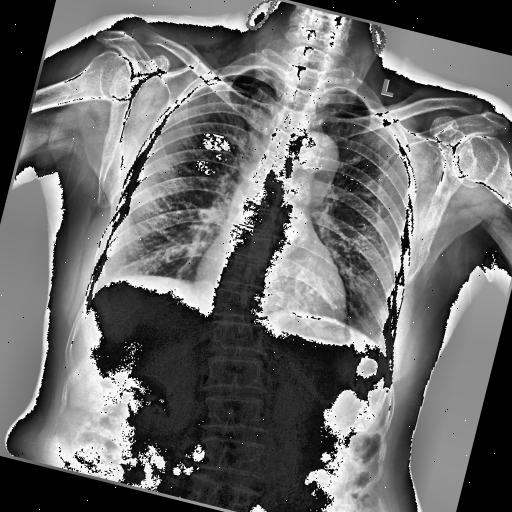0- Aortic enlargement: (280, 124, 346, 198), (282, 125, 344, 201), (289, 128, 345, 194)
3- Cardiomegaly: (186, 230, 360, 332), (184, 248, 356, 343)
